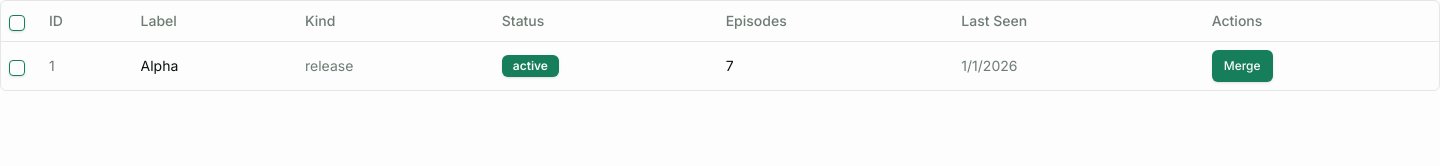
Test: TopicsTable › clears selection when the page changes
Click the checkbox named "select Alpha": (17, 68) [9,60,25,76]
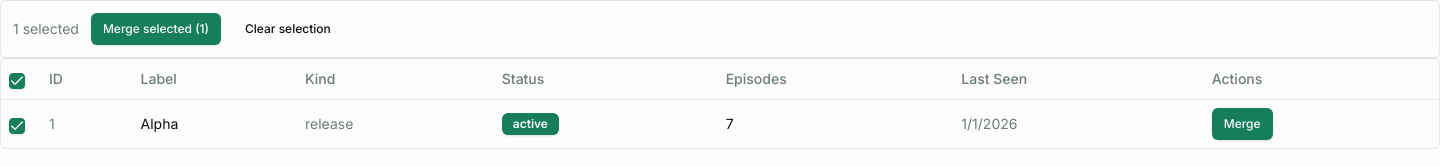
Result: the button "Merge selected (1)" is shown at [91,13,221,45]
